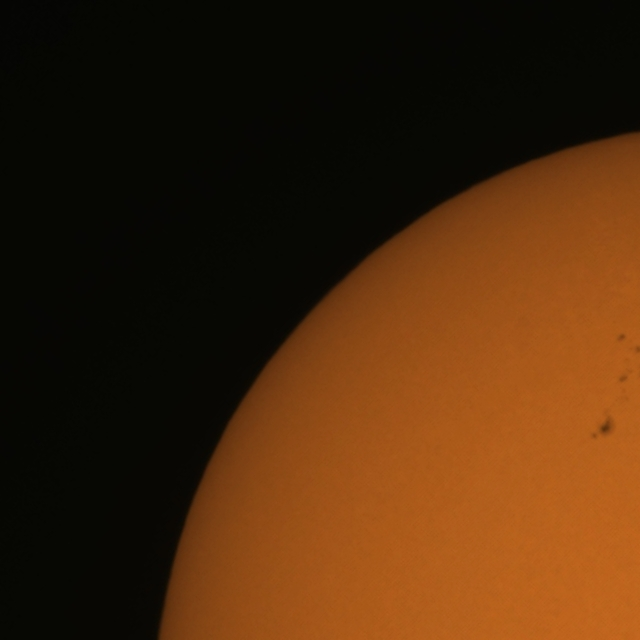sunspot: (616, 331, 640, 362), (590, 414, 616, 442), (617, 366, 635, 387), (616, 332, 628, 343)
